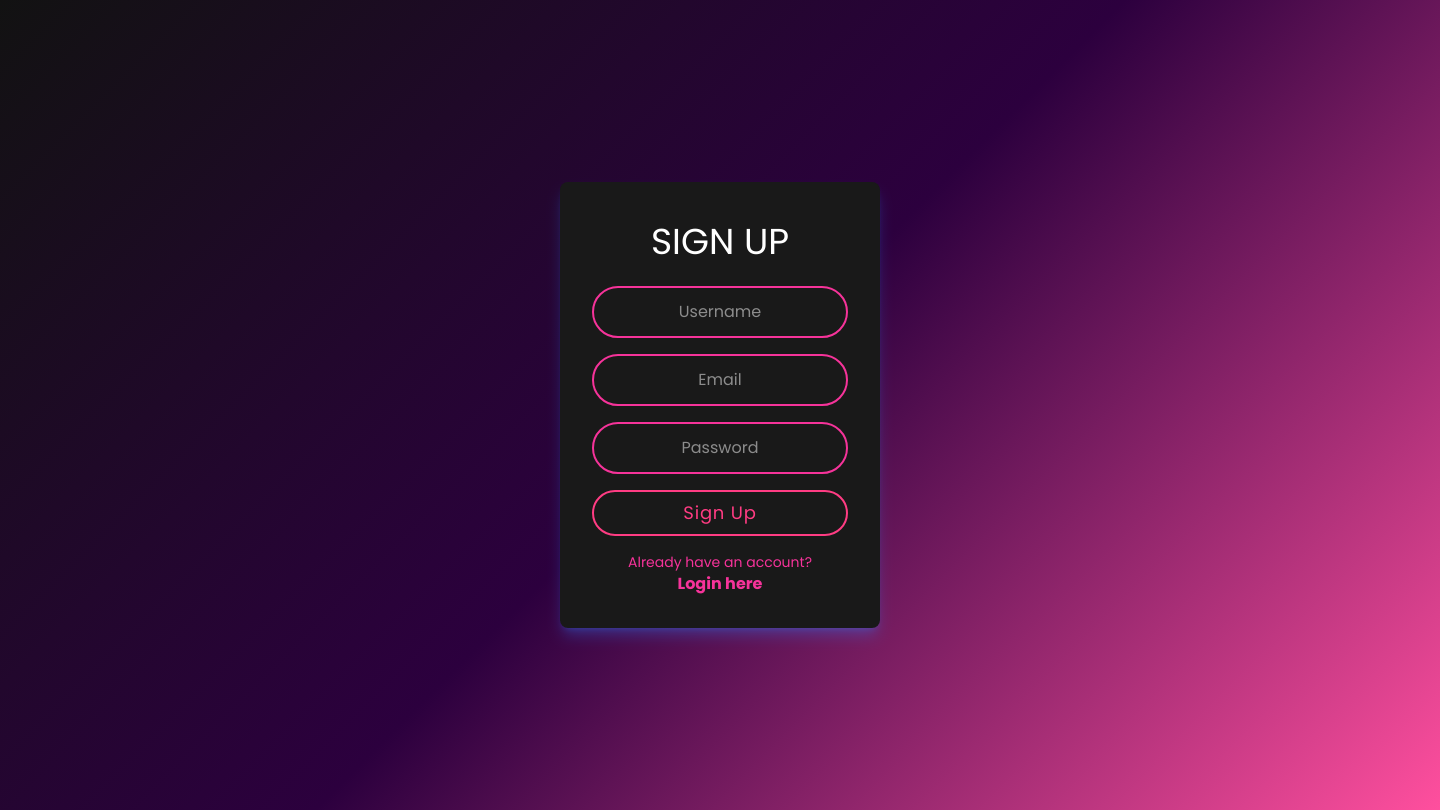
Test: SignupPage Component › should display fallback error message on unexpected error
Type "alice" into the field with placeholder "Username".
click(720, 312); type("alice")  # box [592,286,848,338]
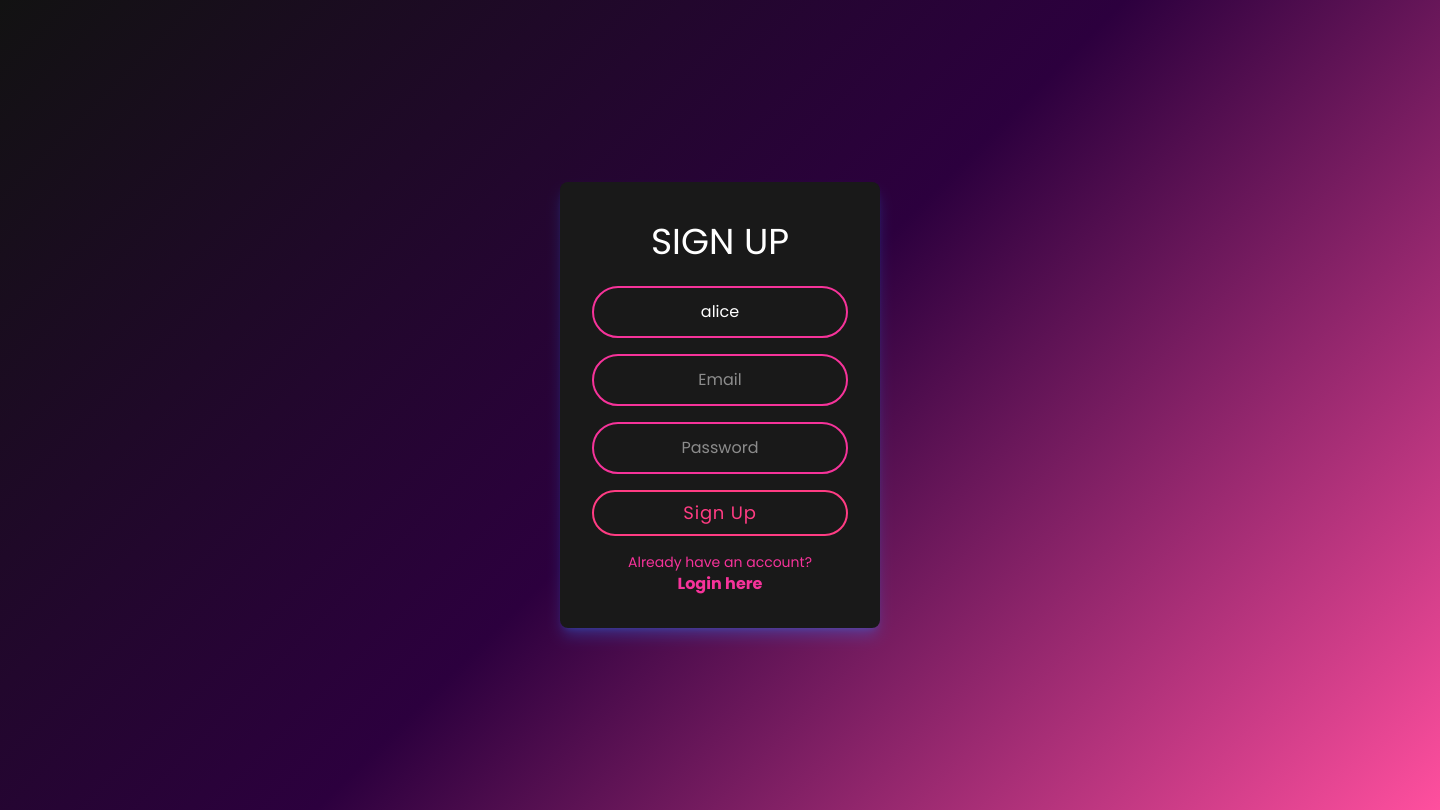
Type "alice@example.com" into the field with placeholder "Email".
click(720, 380); type("alice@example.com")  # box [592,354,848,406]
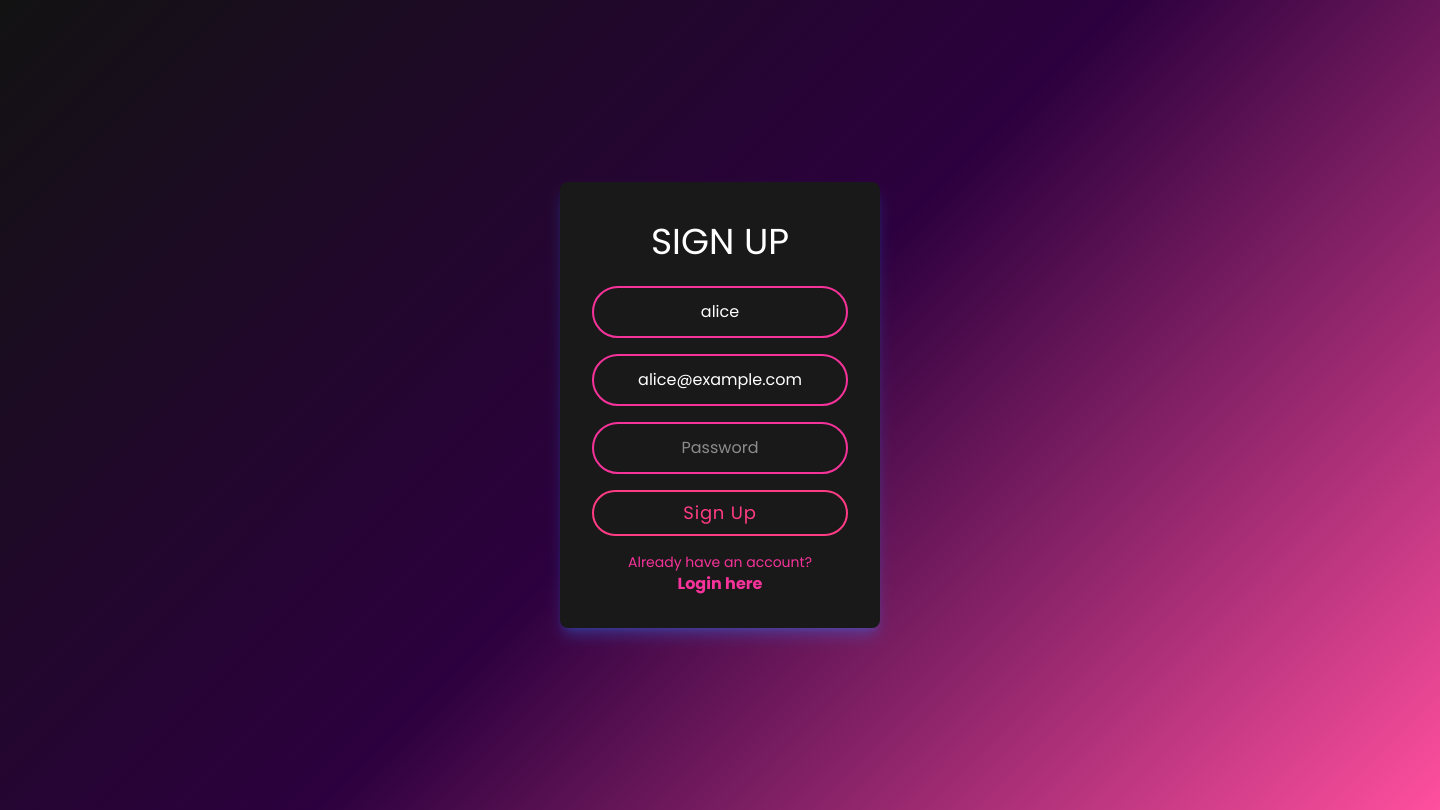
Type "password123" into the password field with placeholder "Password".
click(720, 448); type("password123")  # box [592,422,848,474]
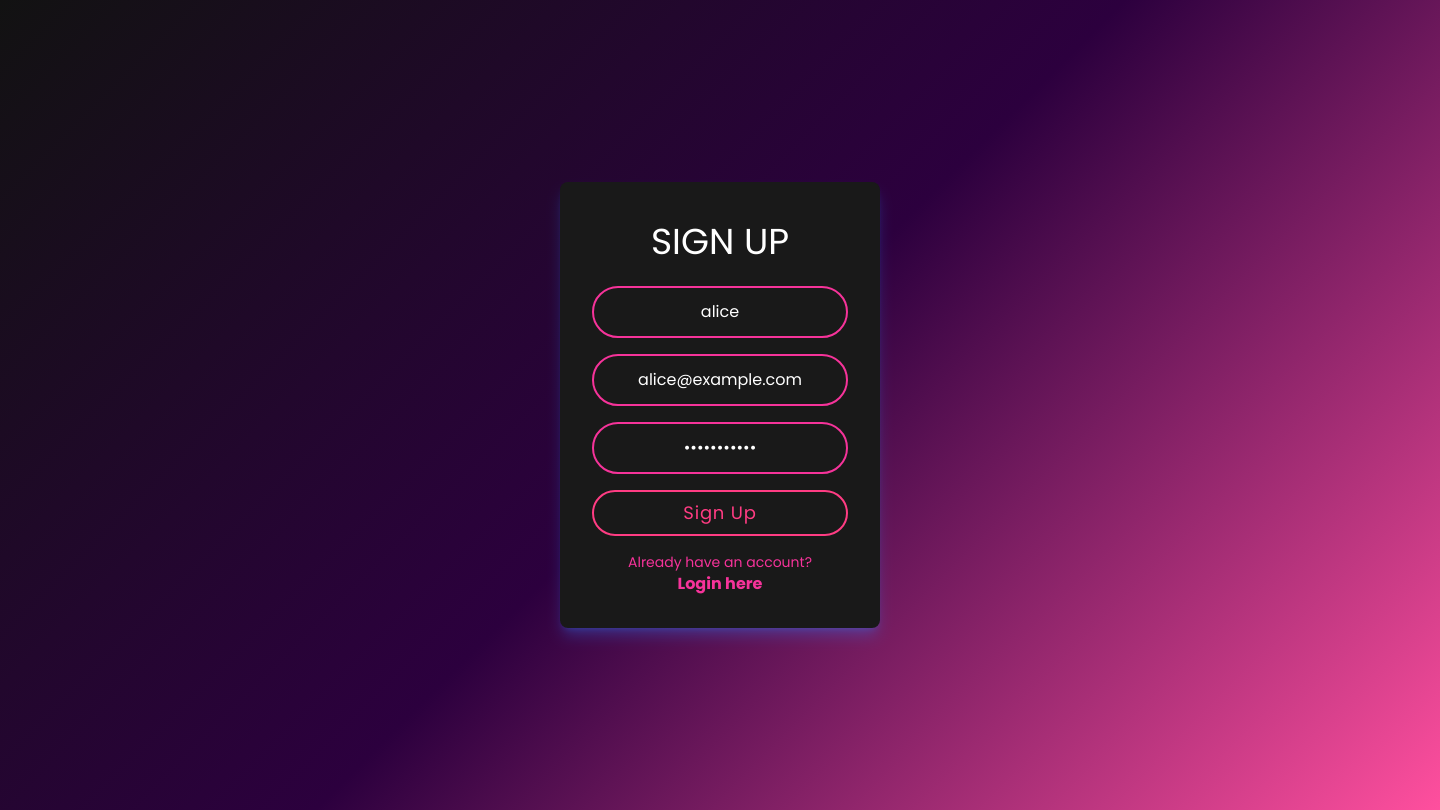
Click the button "Sign Up".
click(720, 513)  # box [592,490,848,536]
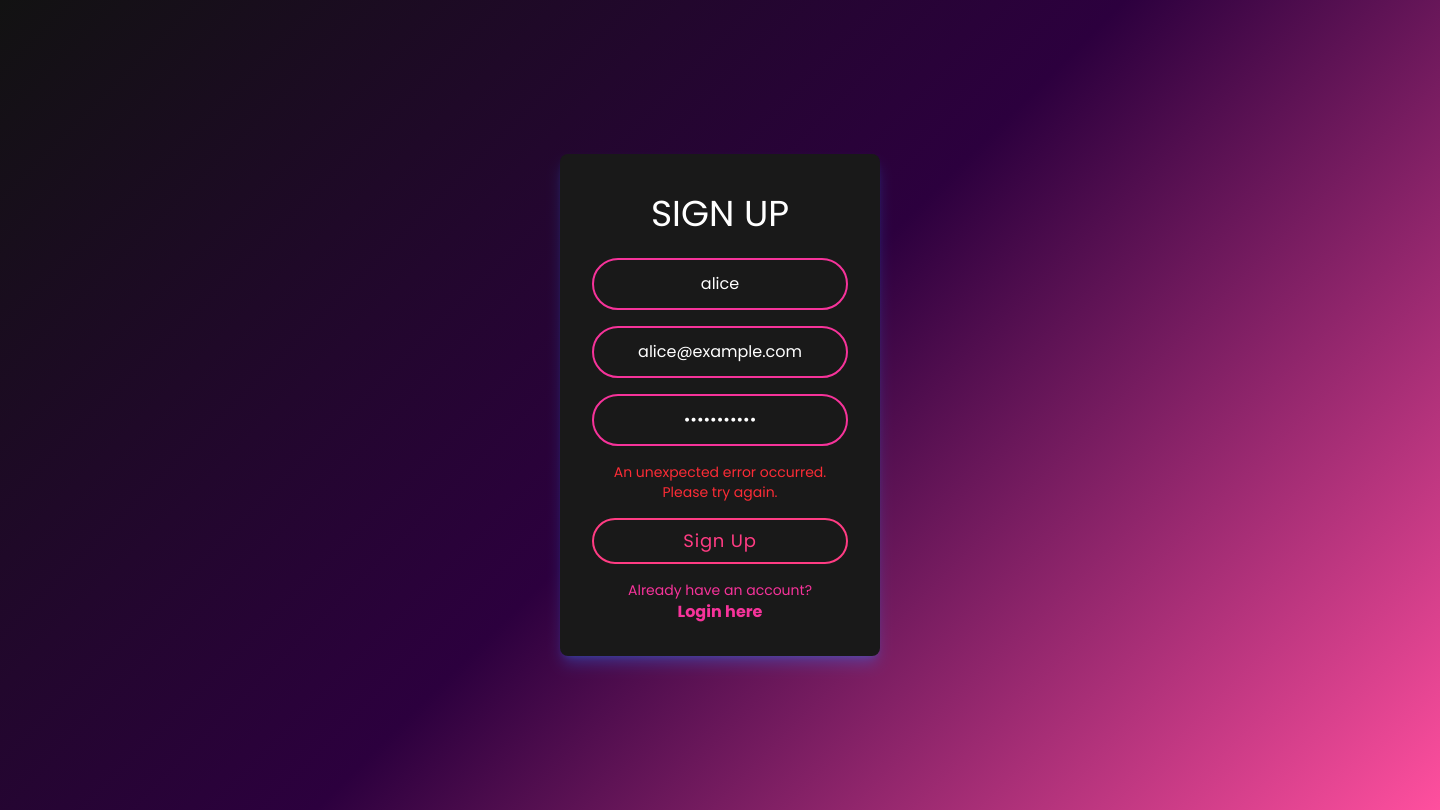
Check: the text "An unexpected error occurred. Please try again." is shown, box [614,462,826,502]
